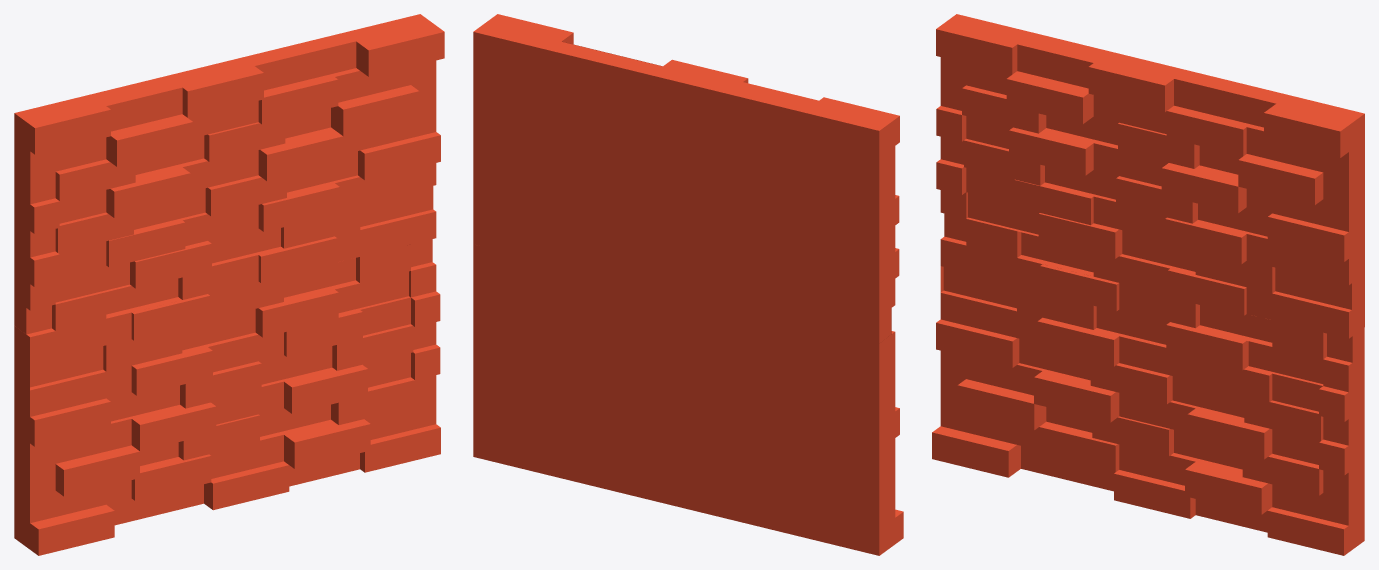
The model's file is stone_wall.fbx.
3 views of the same model, side by side, from view 1: azimuth 30°, elevation 25°; view 2: azimuth 150°, elevation 25°; view 3: azimuth 330°, elevation 25° (orthographic).
Parts seen in each view (by area): view 1: Plane; view 2: Plane; view 3: Plane.
Part boxes in pixels (box(x1,y1,x2,y2)): Plane: box(14, 14, 444, 555); Plane: box(473, 14, 903, 555); Plane: box(932, 14, 1364, 555).
Size of the model in its own units: 200 by 200 by 22.68.
